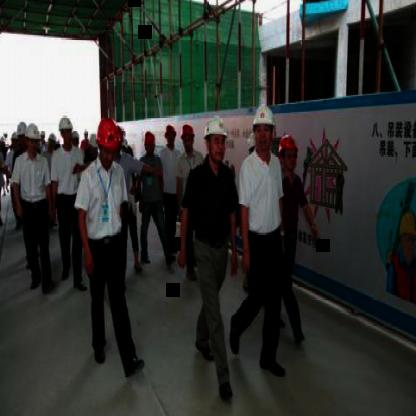helmet: (202, 112, 232, 166), (250, 101, 276, 154), (96, 115, 122, 165), (277, 132, 301, 182), (396, 208, 416, 264), (179, 121, 197, 153), (24, 121, 40, 156), (56, 113, 74, 144), (14, 120, 28, 150), (143, 128, 157, 156), (163, 122, 177, 146)
